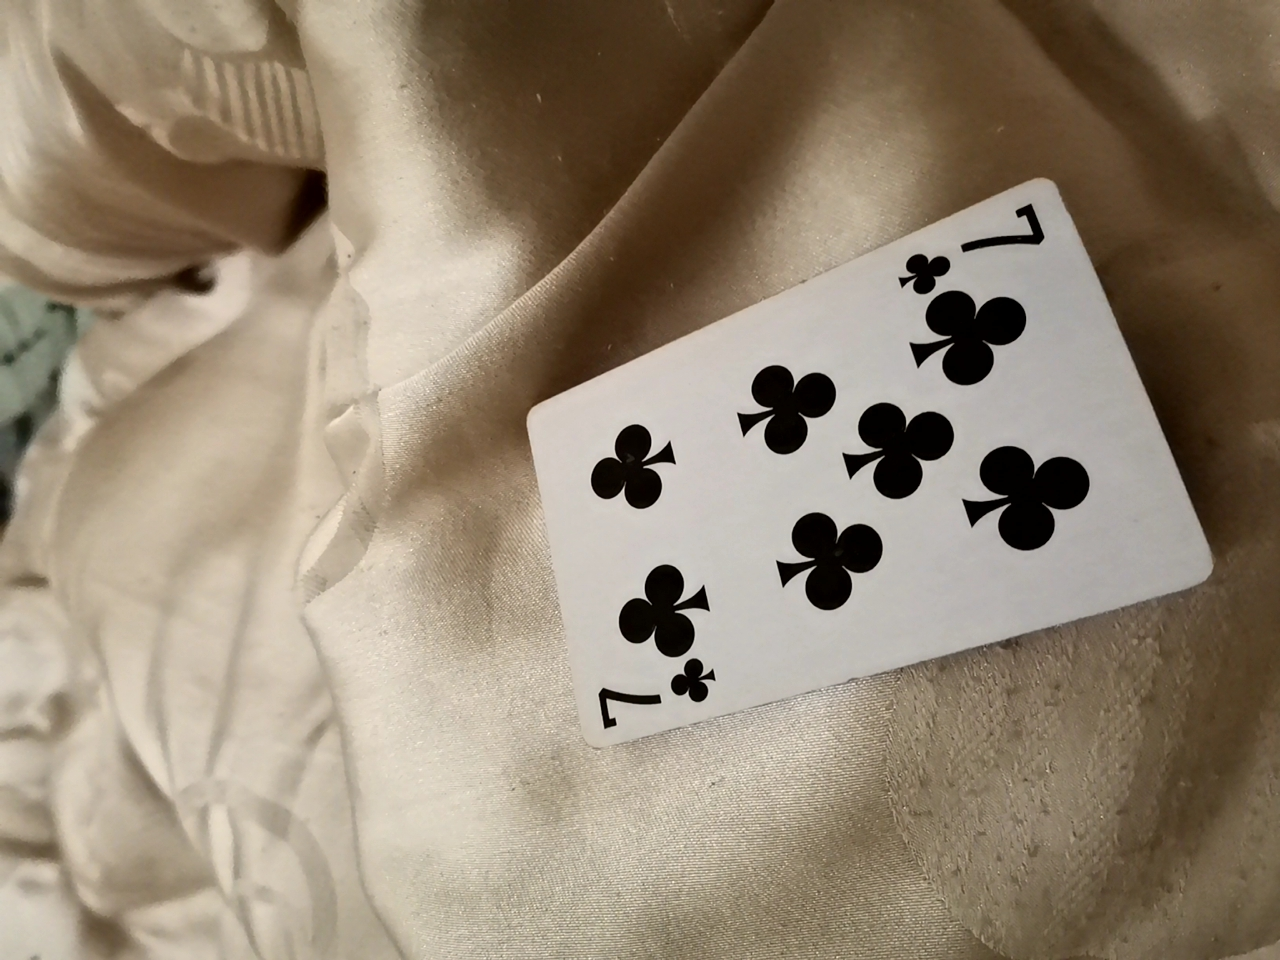mh 7: (503, 173, 1229, 763)
